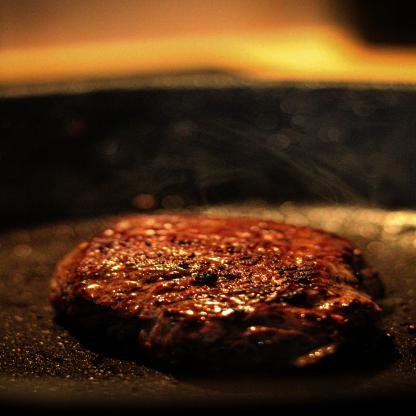Carne: (40, 208, 392, 370)
